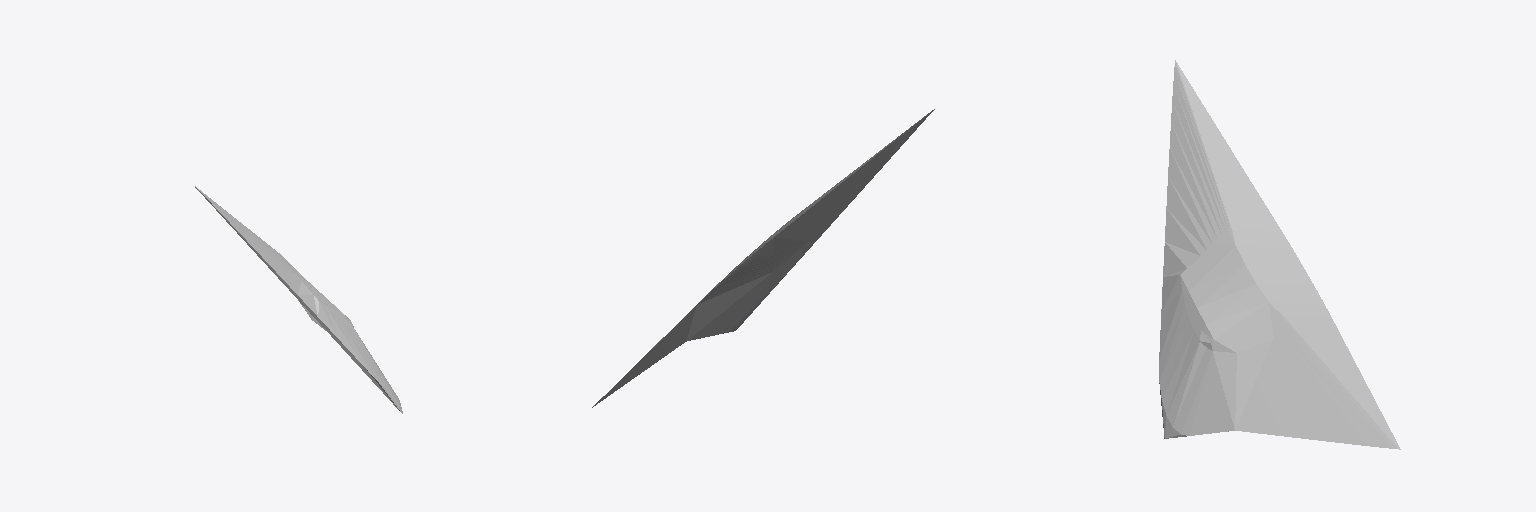
The model's file is sail3Cloth.obj.
3 renders of one model, left to right at view 1: azimuth 30°, elevation 25°; view 2: azimuth 150°, elevation 25°; view 3: azimuth 270°, elevation 25°, orthographic.
Visible parts, largest first — view 1: Cloth3_Plane.002; view 2: Cloth3_Plane.002; view 3: Cloth3_Plane.002.
Part boxes in pixels (x1,y1,x2,y2): Cloth3_Plane.002: (195, 186, 402, 413); Cloth3_Plane.002: (592, 109, 934, 407); Cloth3_Plane.002: (1159, 60, 1400, 449).
Bounding box in the file's own units: 2.21 × 2.53 × 1.99.